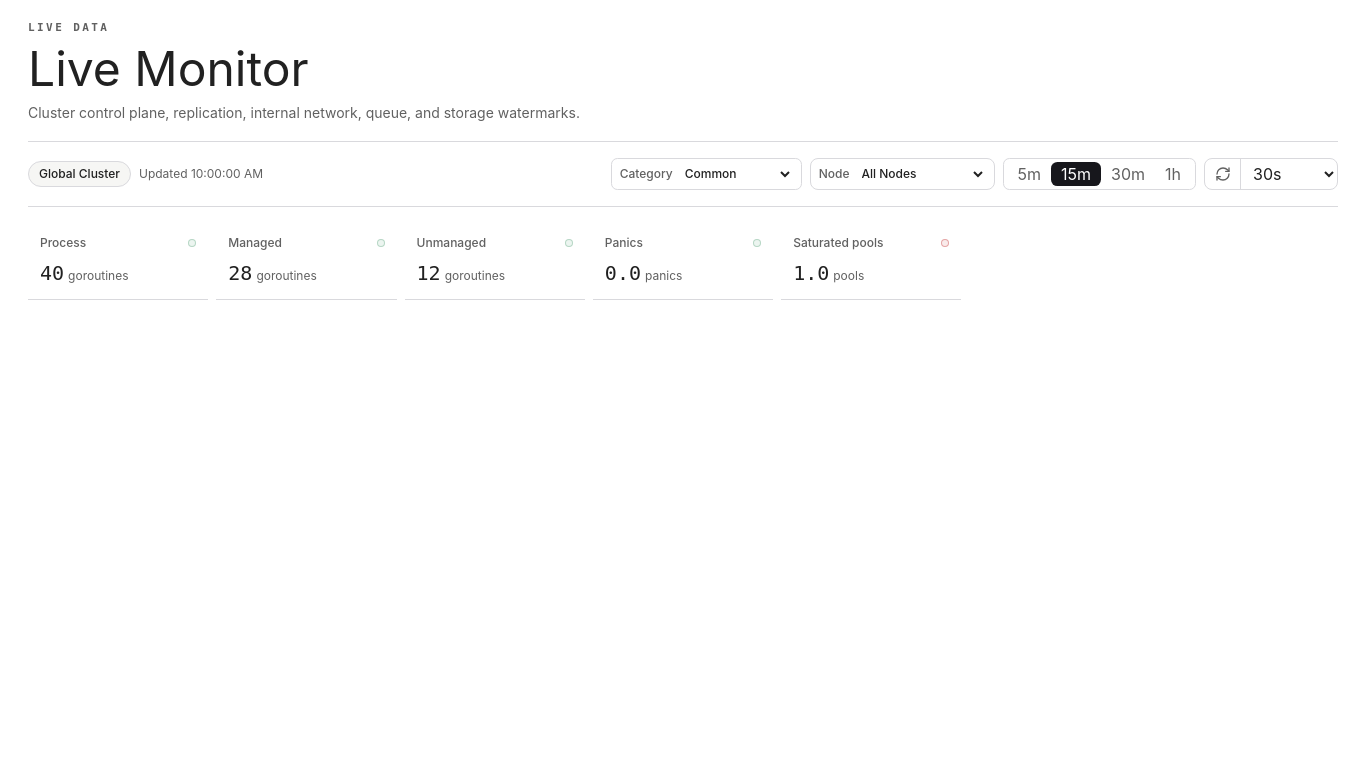
Scenario: keeps unsupported goroutine nodes visible in a partial cluster snapshot
This screenshot has width=1366, height=768.
Select "Goroutines" in the dropdown labelled "Category". click: point(737, 174)
box: [681,162,793,186]
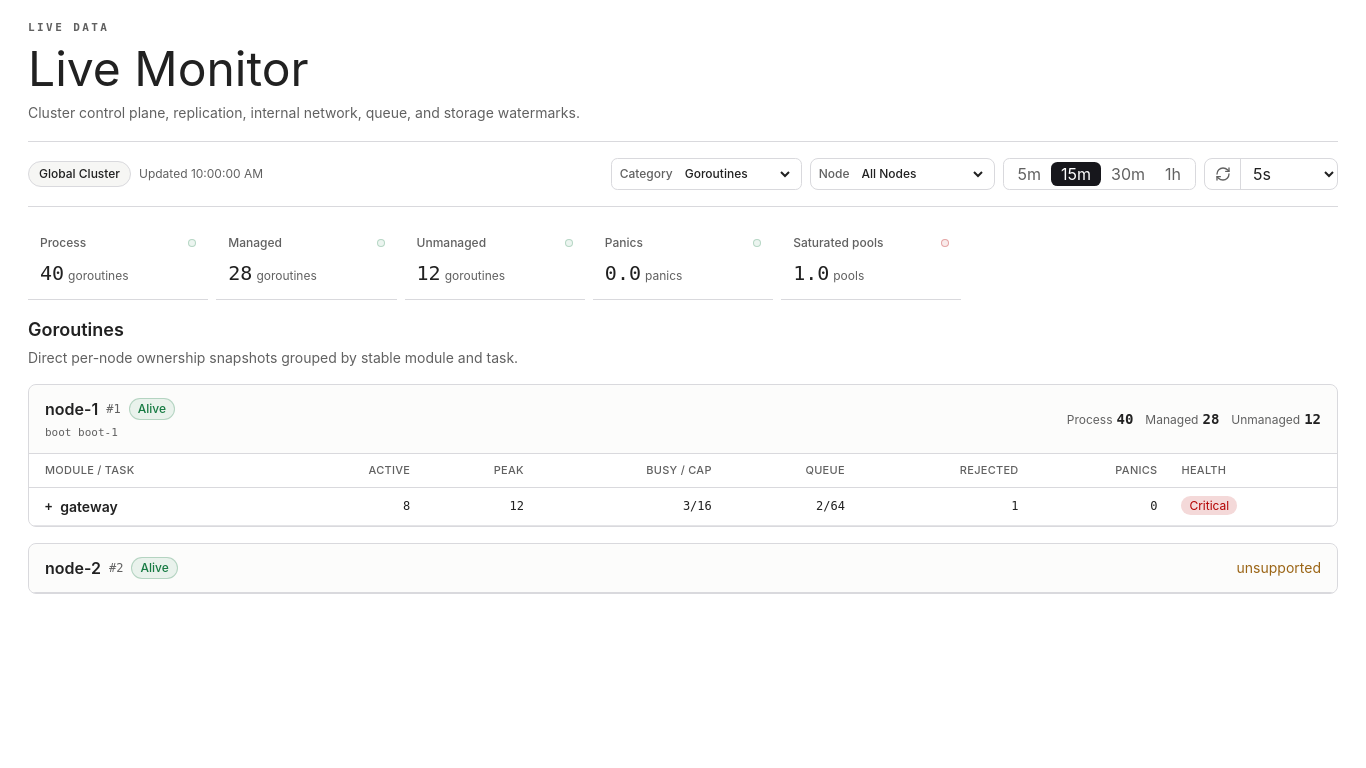
Result: the heading "node-2" is shown at [45,556,101,580]
Result: the text "unsupported" is shown at [1237,558,1321,578]
